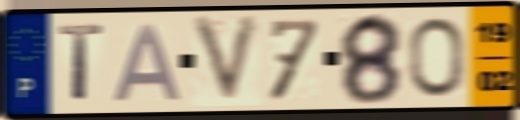7: (266, 17, 322, 104)
8: (336, 10, 405, 107)
A: (110, 21, 185, 104)
O: (406, 15, 468, 100)
T: (56, 22, 107, 105)
V: (188, 12, 265, 109)
